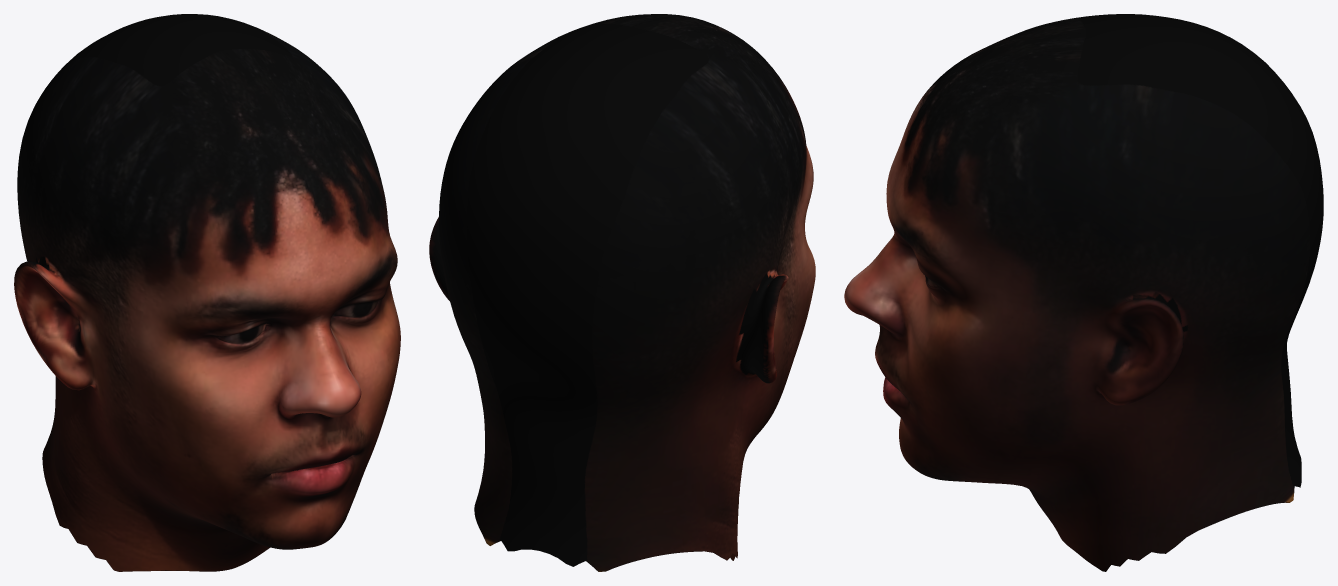
3 renders of one model, left to right at view 1: azimuth 30°, elevation 25°; view 2: azimuth 150°, elevation 25°; view 3: azimuth 270°, elevation 25°, orthographic.
Parts seen in each view (by area): view 1: FaceBuilderHead; view 2: FaceBuilderHead; view 3: FaceBuilderHead.
Part boxes in pixels (x1,y1,x2,y2): FaceBuilderHead: [14, 14, 400, 571]; FaceBuilderHead: [429, 14, 815, 571]; FaceBuilderHead: [844, 14, 1323, 571].
Size of the model in its own units: 1.63 by 2.37 by 2.04.
1 material, 1 textured.
